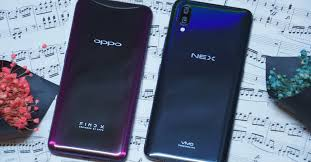oppo: (43, 1, 153, 162), (143, 1, 253, 162)
